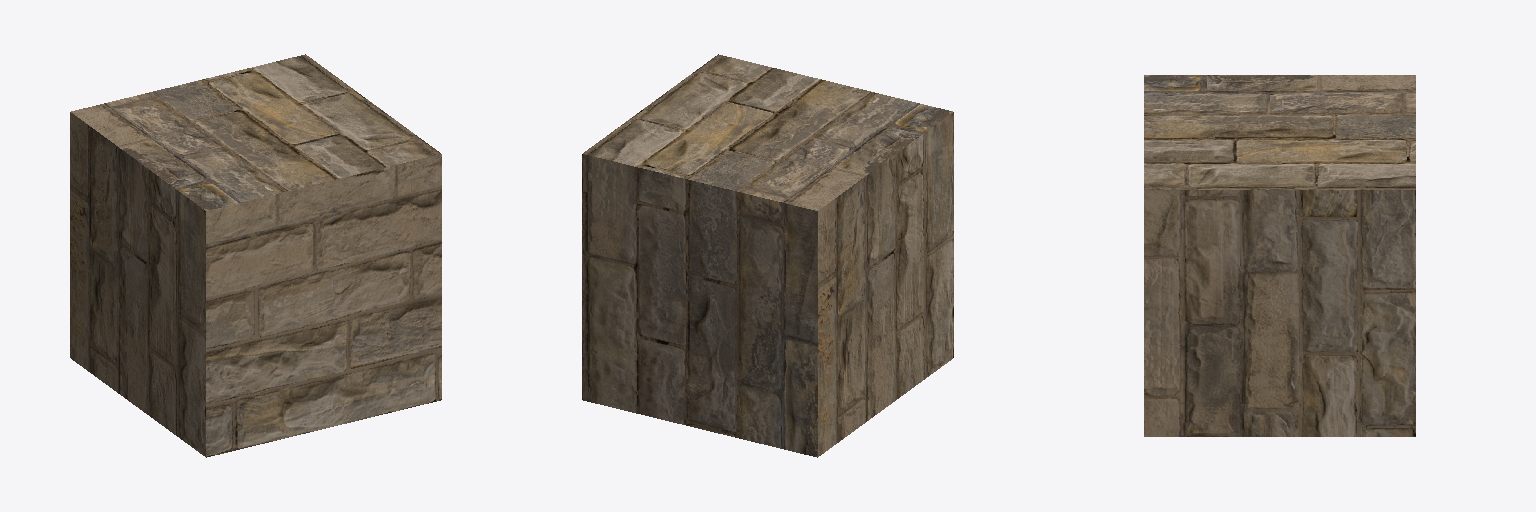
3 renders of one model, left to right at view 1: azimuth 30°, elevation 25°; view 2: azimuth 150°, elevation 25°; view 3: azimuth 270°, elevation 25°, orthographic.
Parts seen in each view (by area): view 1: Cube; view 2: Cube; view 3: Cube.
Boxes of the visible parts, x1=… form: Cube: x1=70, y1=54, x2=441, y2=457; Cube: x1=582, y1=54, x2=953, y2=457; Cube: x1=1144, y1=75, x2=1415, y2=436.
Bounding box in the file's own units: 2 × 2 × 2.
1 materials, 1 textured.